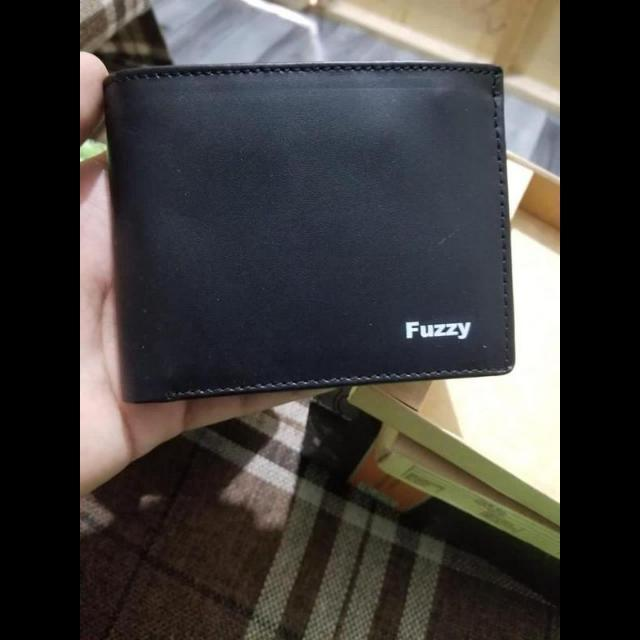wallet: (102, 59, 514, 404)
